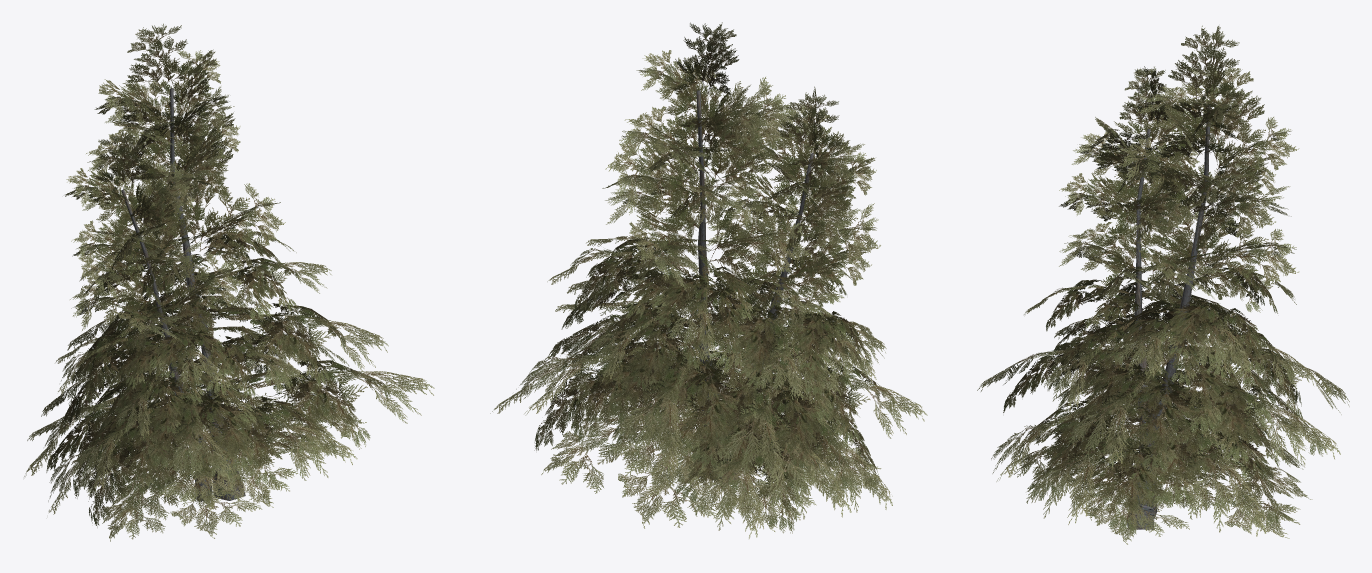
The model's file is cedro1.glb.
The picture shows the model from 3 angles, left to right: view 1: azimuth 30°, elevation 25°; view 2: azimuth 150°, elevation 25°; view 3: azimuth 270°, elevation 25°; orthographic projection. The views are drawn at different scales.
Parts seen in each view (by area): view 1: models\foliage\cedar_01.vmdl_c.cedar_01_mesh; view 2: models\foliage\cedar_01.vmdl_c.cedar_01_mesh; view 3: models\foliage\cedar_01.vmdl_c.cedar_01_mesh.
Part boxes in pixels (x1=…): models\foliage\cedar_01.vmdl_c.cedar_01_mesh: x1=24, y1=23, x2=434, y2=541; models\foliage\cedar_01.vmdl_c.cedar_01_mesh: x1=490, y1=22, x2=927, y2=538; models\foliage\cedar_01.vmdl_c.cedar_01_mesh: x1=977, y1=25, x2=1349, y2=544.
Size of the model in its own units: 4.38 by 5.29 by 3.8.
2 materials, 2 textured.
